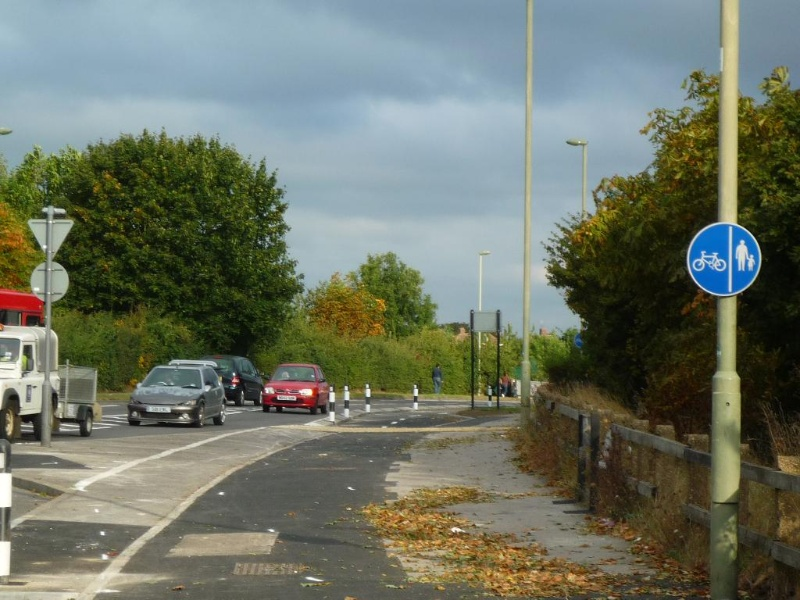cycle_route_ahead: (682, 214, 734, 297)
pedestrian_crossing_ahead: (730, 219, 765, 298)
